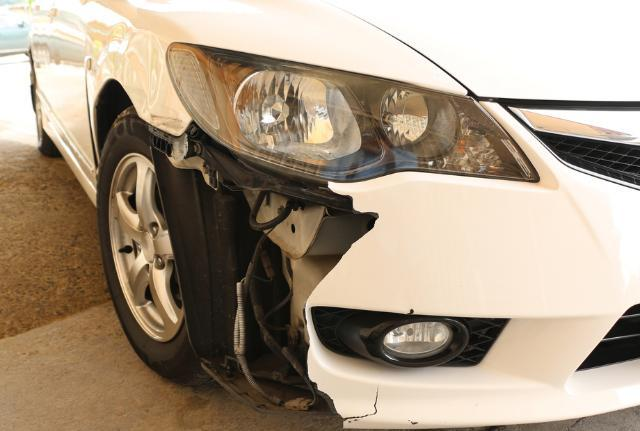Bumper: (182, 166, 548, 429)
